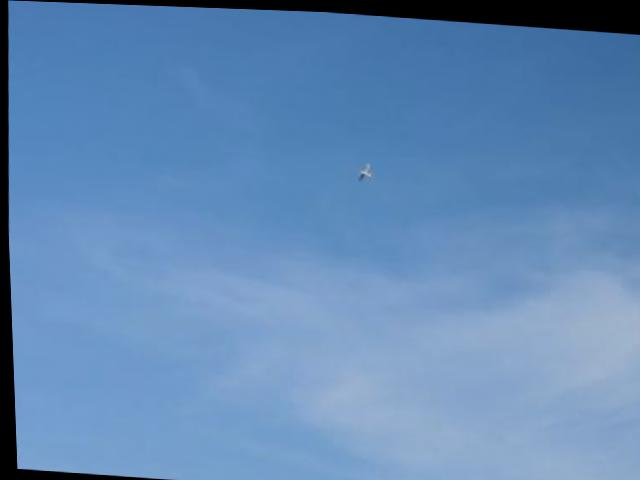uav: (353, 156, 375, 183)
